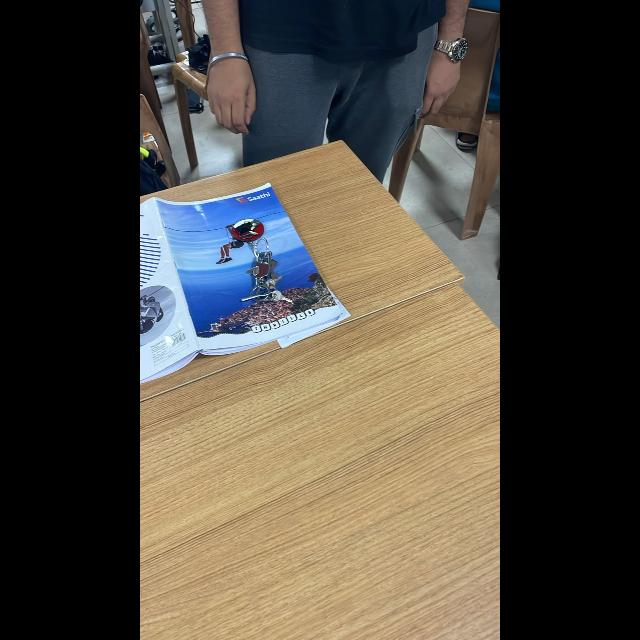keys: (220, 203, 296, 321)
